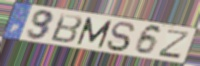6: (132, 24, 164, 57)
9: (25, 10, 56, 42)
B: (49, 12, 85, 45)
M: (75, 16, 114, 50)
S: (105, 21, 137, 53)
Z: (156, 29, 193, 60)
